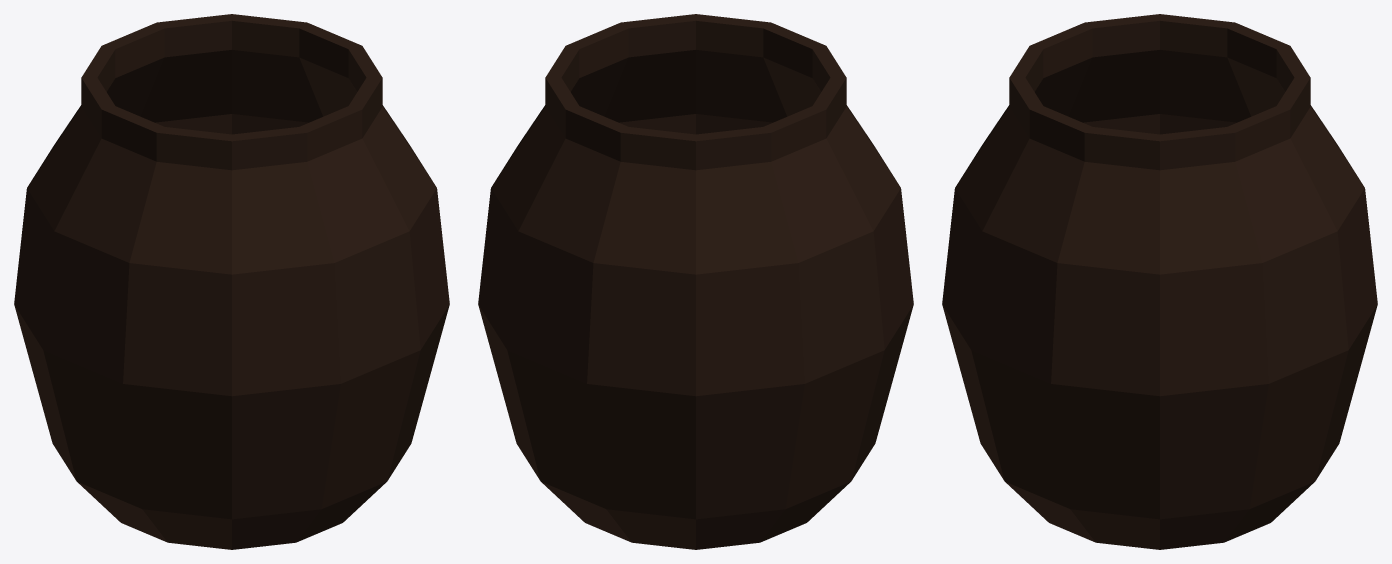
Rendered from onggi_jar.glb.
3 views of the same model, side by side, from view 1: azimuth 30°, elevation 25°; view 2: azimuth 150°, elevation 25°; view 3: azimuth 270°, elevation 25° (orthographic).
Parts seen in each view (by area): view 1: CandidateMesh; view 2: CandidateMesh; view 3: CandidateMesh.
Part boxes in pixels (x1,y1,x2,y2): CandidateMesh: (14, 14, 449, 549); CandidateMesh: (478, 14, 913, 549); CandidateMesh: (942, 14, 1377, 549).
Bounding box in the file's own units: 0.68 × 0.72 × 0.68.
